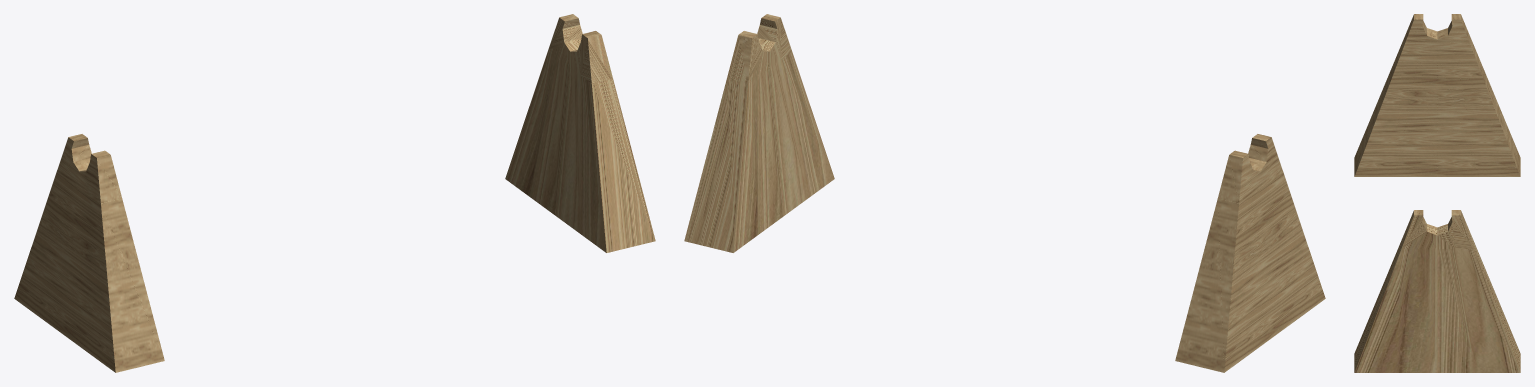
The model's file is CannonLegs.gltf.
3 renders of one model, left to right at view 1: azimuth 30°, elevation 25°; view 2: azimuth 150°, elevation 25°; view 3: azimuth 270°, elevation 25°, orthographic. The views are drawn at different scales.
Visible parts, largest first — view 1: Ножка пушки 1; view 2: Ножка пушки 1; view 3: Ножка пушки 1.
Part boxes in pixels (x1,y1,x2,y2): Ножка пушки 1: [14, 14, 655, 372]; Ножка пушки 1: [684, 14, 1325, 372]; Ножка пушки 1: [1354, 14, 1520, 372].
Bounding box in the file's own units: 7.06 × 2.3 × 2.3.
2 materials, 2 textured.
